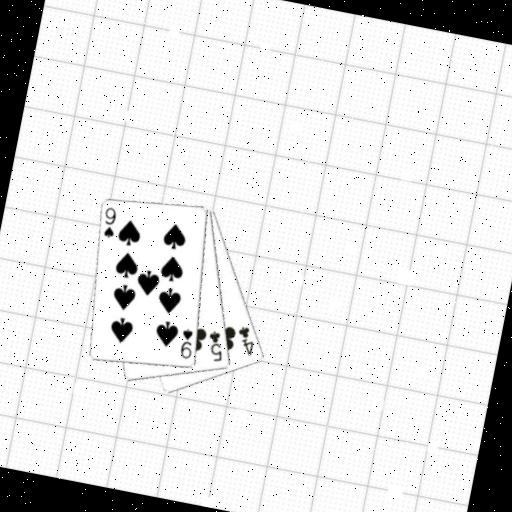4C: (232, 322, 260, 358)
5C: (201, 328, 229, 365)
9S: (98, 203, 121, 241), (175, 325, 198, 362)
